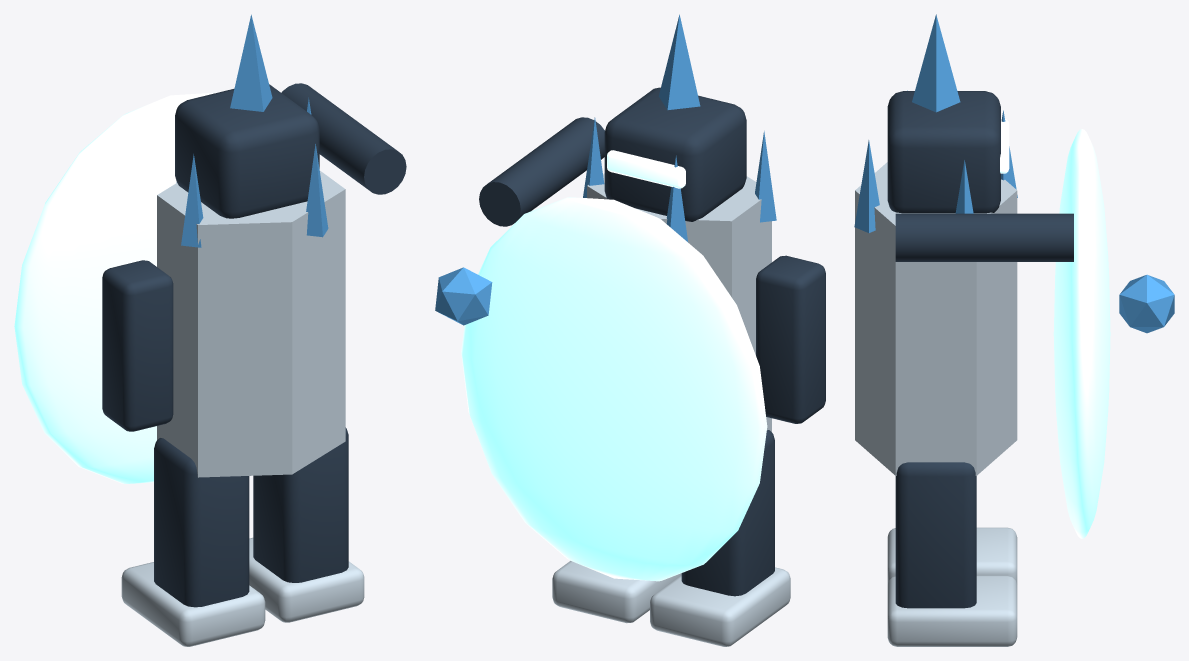
The model's file is enemy_warden.glb.
3 views of the same model, side by side, from view 1: azimuth 30°, elevation 25°; view 2: azimuth 150°, elevation 25°; view 3: azimuth 270°, elevation 25° (orthographic).
Visible parts, largest first — view 1: Torso, Shield, Head, LegL, ArmL, LegR, FootL, Cannon, FootR, Crest, Spike3, Spike2; view 2: Shield, Head, ArmL, Torso, FootL, Cannon, LegL, FootR, Muzzle, Crest, Visor, Spike2 (+2 smaller); view 3: Torso, Shield, Head, LegR, Cannon, FootR, Muzzle, FootL, Crest, Spike3, Spike0, Visor.
Boxes of the visible parts, <box> form: Torso: <box>157,170,345,477</box>; Shield: <box>14,92,216,483</box>; Head: <box>175,84,319,218</box>; LegL: <box>154,438,249,607</box>; ArmL: <box>102,260,173,431</box>; LegR: <box>253,427,348,582</box>; FootL: <box>121,562,265,646</box>; Cannon: <box>281,83,406,194</box>; FootR: <box>249,537,364,622</box>; Crest: <box>230,14,272,111</box>; Spike3: <box>306,144,328,237</box>; Spike2: <box>181,154,203,247</box>; Shield: <box>461,197,767,581</box>; Head: <box>604,87,746,221</box>; ArmL: <box>756,255,825,423</box>; Torso: <box>587,173,771,431</box>; FootL: <box>650,567,790,646</box>; Cannon: <box>479,117,604,226</box>; LegL: <box>681,430,774,596</box>; FootR: <box>552,561,681,623</box>; Muzzle: <box>435,267,492,325</box>; Crest: <box>658,14,700,110</box>; Visor: <box>607,150,685,188</box>; Spike2: <box>755,131,776,222</box>; Torso: <box>855,162,1017,475</box>; Shield: <box>1053,129,1110,538</box>; Head: <box>887,91,1000,213</box>; LegR: <box>895,462,976,608</box>; Cannon: <box>895,213,1073,261</box>; FootR: <box>887,575,1017,646</box>; Muzzle: <box>1119,274,1174,333</box>; FootL: <box>887,527,1017,584</box>; Crest: <box>912,14,960,112</box>; Spike3: <box>854,140,879,232</box>; Spike0: <box>955,160,973,213</box>; Visor: <box>1000,118,1009,173</box>.
Bounding box in the file's own units: 2.2 × 4.02 × 1.97.
